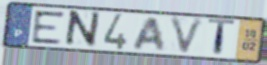4: (101, 13, 130, 52)
A: (130, 16, 167, 53)
E: (30, 9, 66, 45)
N: (62, 9, 102, 49)
T: (206, 17, 237, 59)
V: (168, 15, 208, 57)
